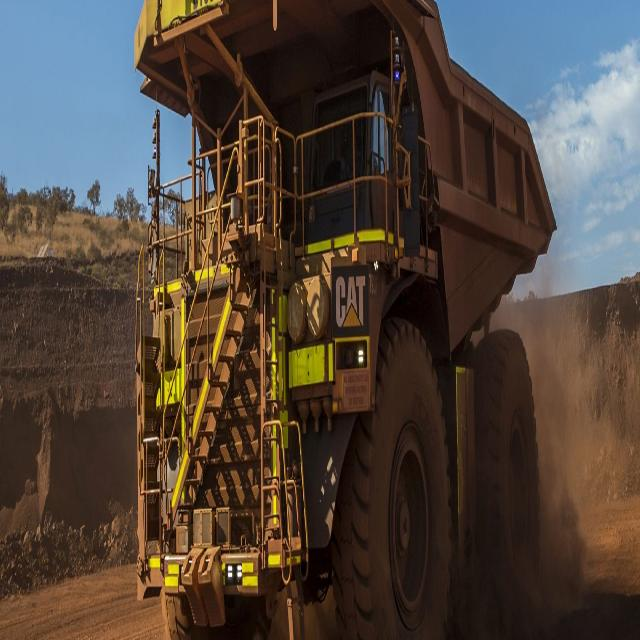dump_truck: (125, 3, 554, 639)
